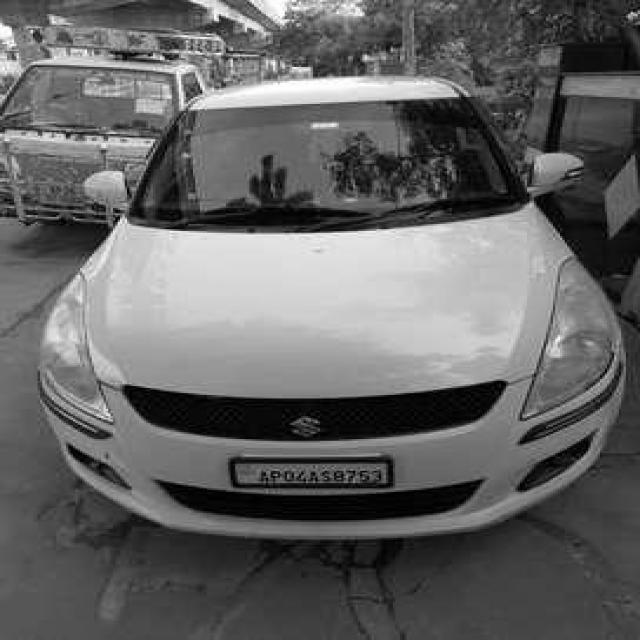car: (33, 72, 631, 548)
license-plate: (230, 457, 390, 488)
